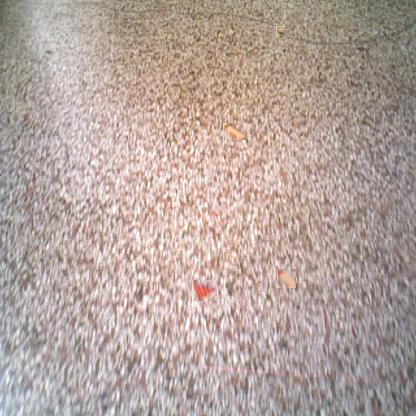dirty: (192, 279, 217, 301), (223, 122, 246, 140), (277, 268, 296, 288), (276, 26, 285, 35), (216, 30, 224, 38)
